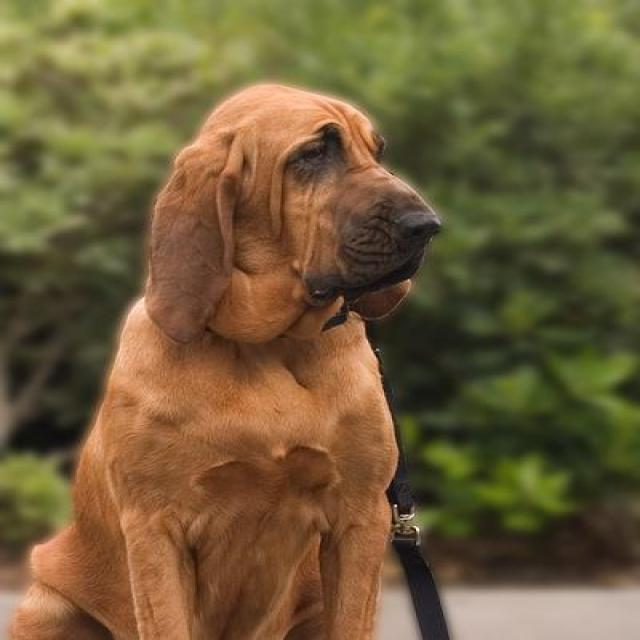bloodhound: (0, 77, 442, 635)
